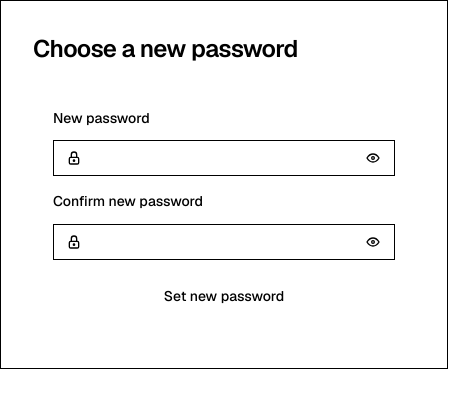
Test: ResetPasswordView › requires both passwords to match
The image size is (465, 410).
Step 1. Type "long-enough-1" into the password field labelled "New password" → (220, 158), box [82, 140, 357, 176]
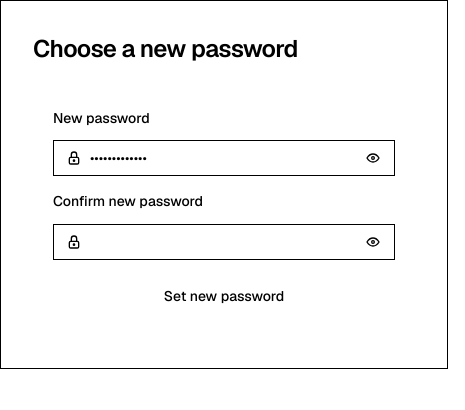
Step 2. Type "long-enough-2" into the password field labelled "Confirm new password" → (220, 242), box [82, 224, 357, 260]
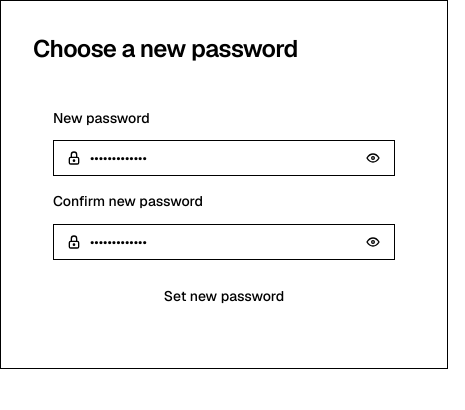
Step 3. Click the button "Set new password" → (224, 296), box [53, 276, 395, 316]
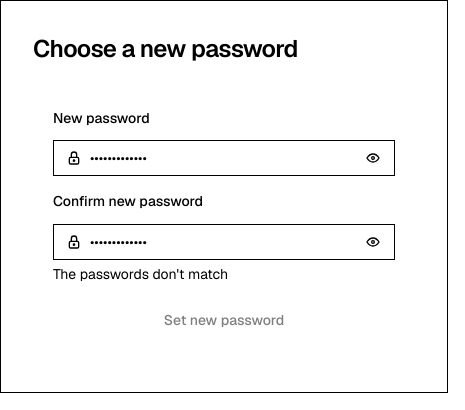
Result: the text "The passwords don't match" is shown at [53, 264, 228, 282]
